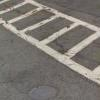Crosswalk: (8, 3, 97, 70)
